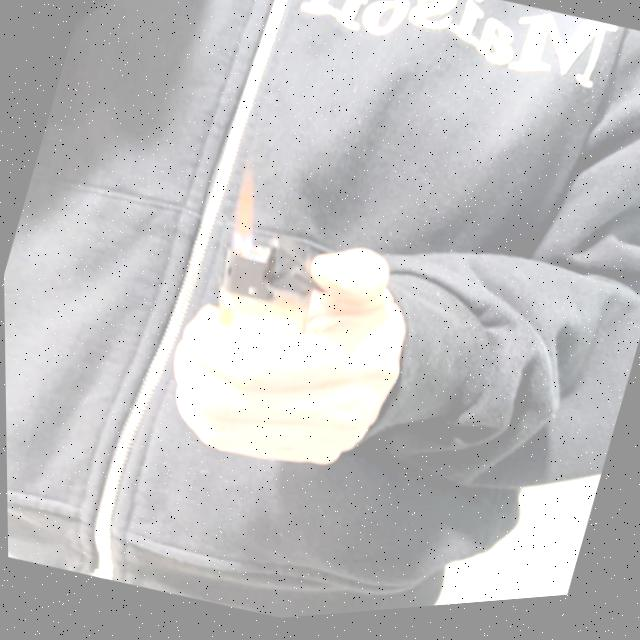Fire: (218, 168, 272, 260)
